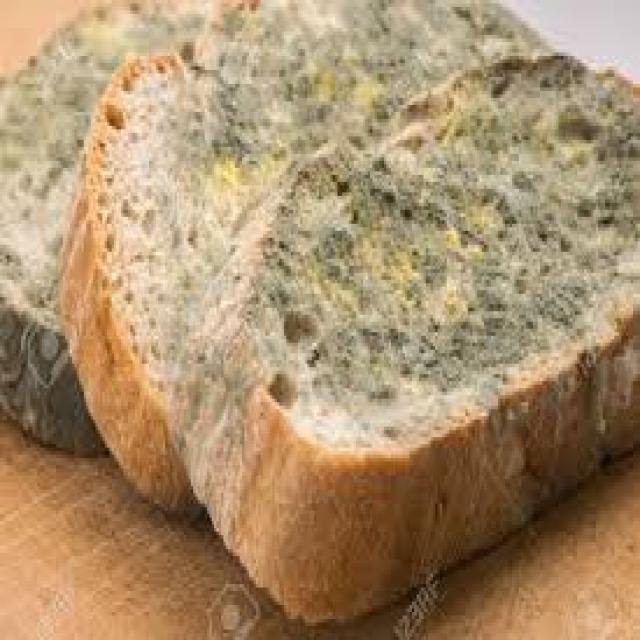organic waste: (60, 0, 638, 619), (0, 0, 233, 451)
